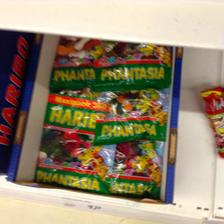Suessigkeit: (37, 33, 167, 194)
